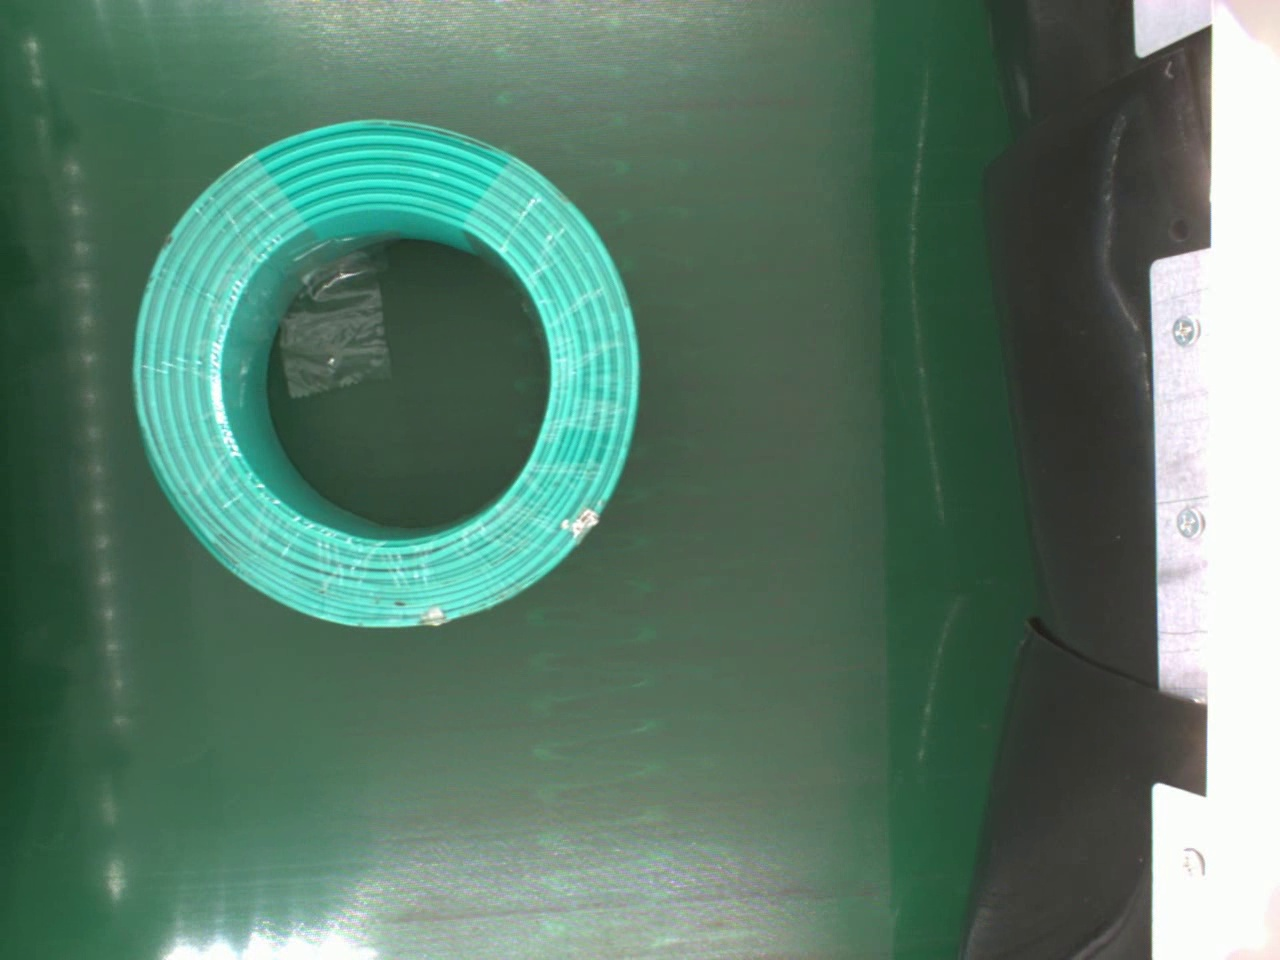green: (128, 115, 640, 637)
